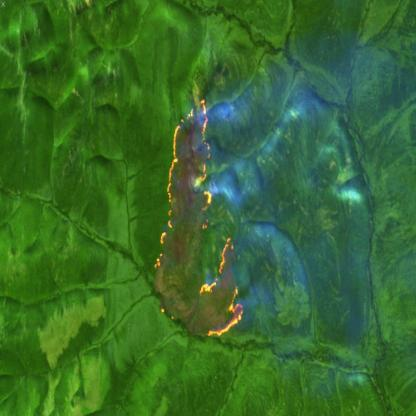fire: (148, 93, 246, 349)
